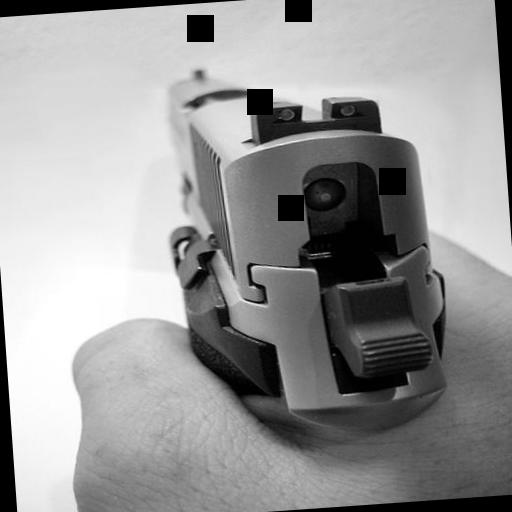Handgun: (160, 52, 452, 418)
